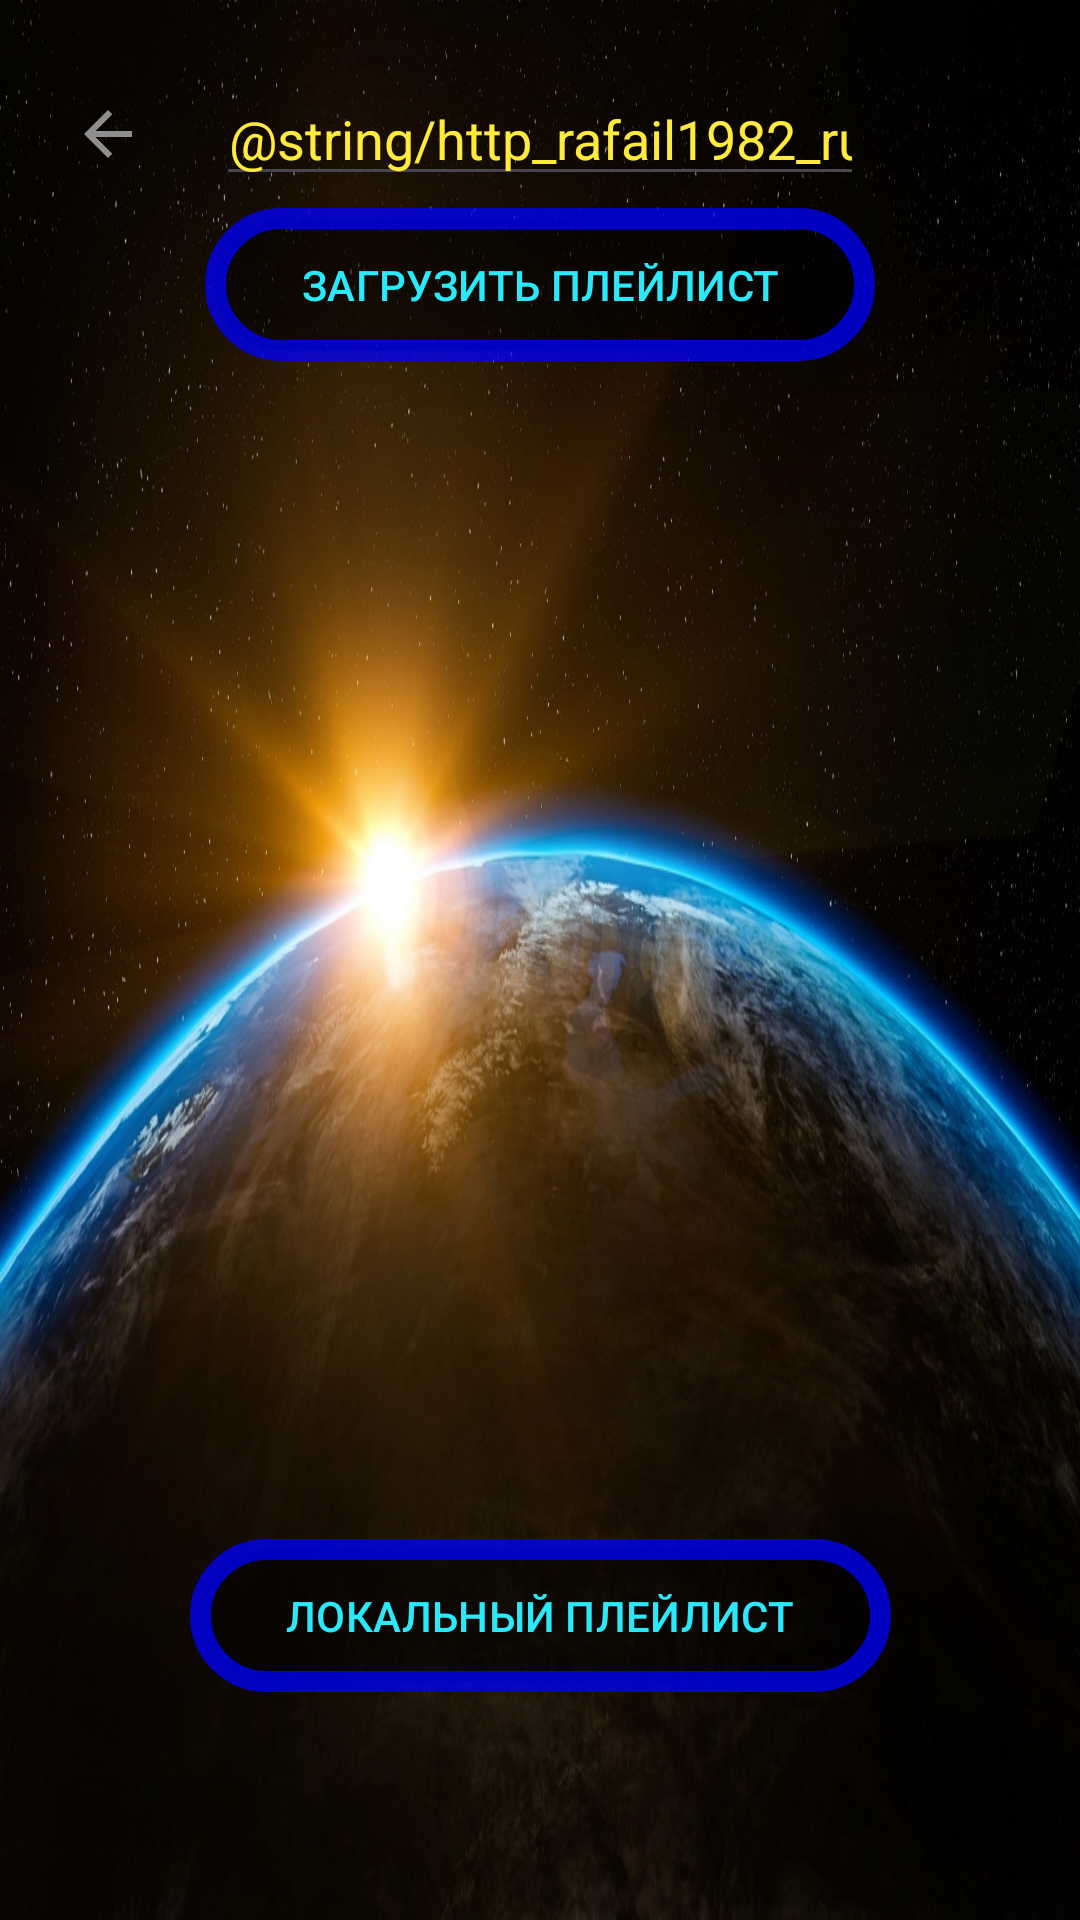

Screen size 1080x1920. Icon name, then its box in pixels as BBox(x1, y1, x2, y2):
arrow back: BBox(78, 102, 140, 169)
